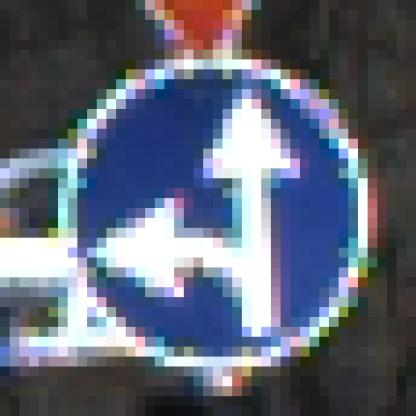Straight or Left: (59, 61, 369, 368)
